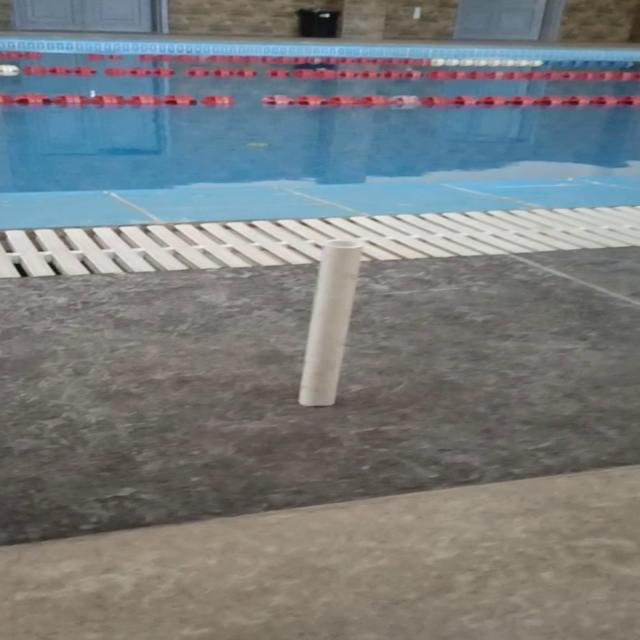Cube: (295, 237, 364, 407)
